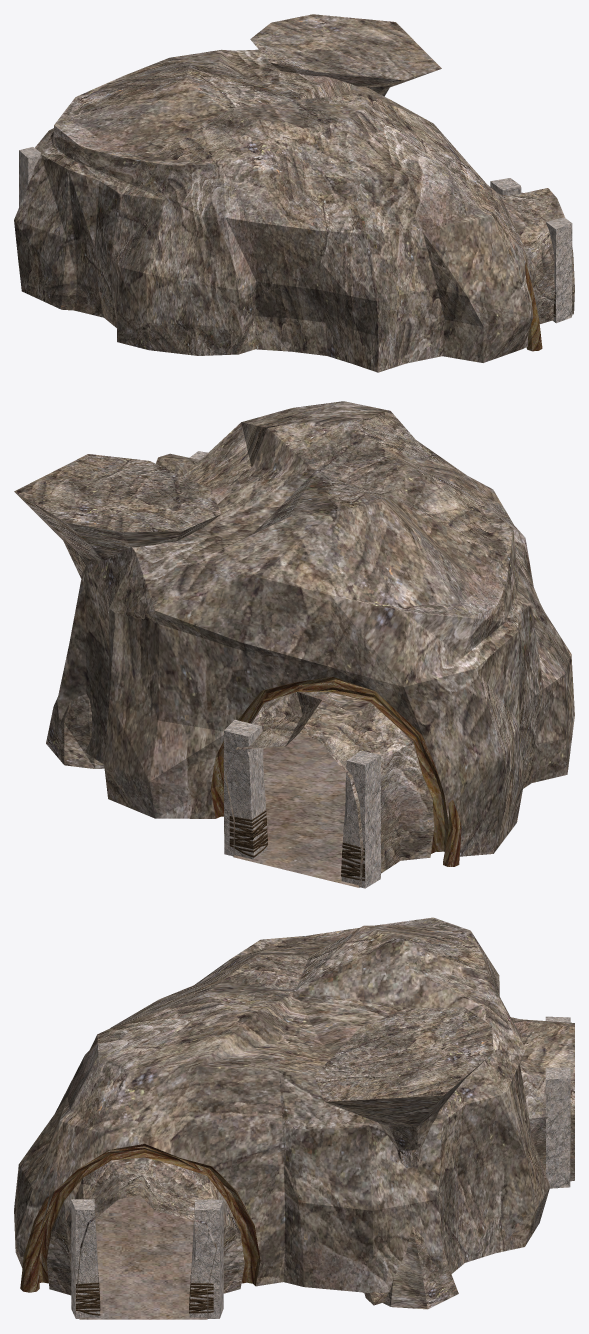
File: thm_dath_mtn_clan_stronghold_r3_guard2_mesh_r3.fbx
3 views of the same model, one above another, from view 1: azimuth 30°, elevation 25°; view 2: azimuth 150°, elevation 25°; view 3: azimuth 270°, elevation 25° (orthographic). The views are drawn at different scales.
Parts seen in each view (by area): view 1: mesh_node; view 2: mesh_node; view 3: mesh_node.
Part boxes in pixels (<box>): mesh_node: <box>14,14,574,372</box>; mesh_node: <box>14,401,574,888</box>; mesh_node: <box>14,917,574,1319</box>.
Bounding box in the file's own units: 13.66 × 7.18 × 14.34.
